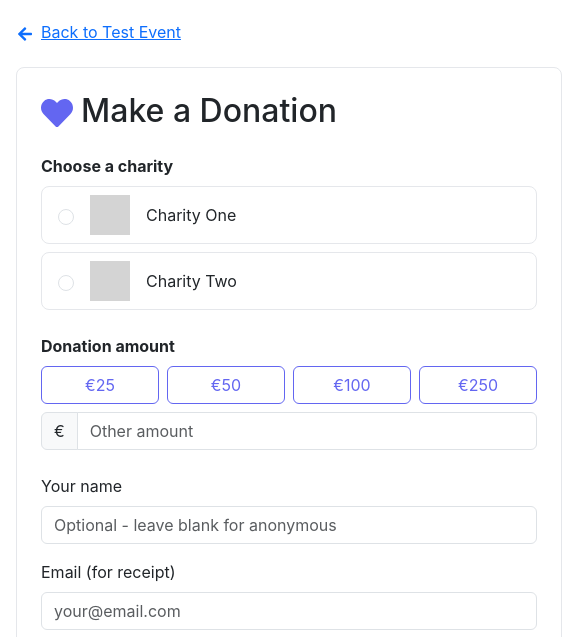
Test case: DonationForm › validates charity selection
// Select amount but not charity
What coordinates should you click on to do the following:
click the button "€50"
I would click on:
 (226, 385)
Its box is [167,366,285,404].
(page scrolled)
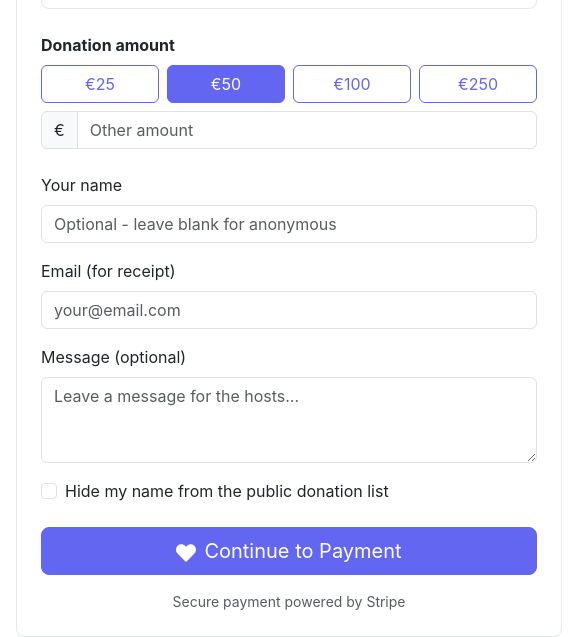
What coordinates should you click on to do the following:
click the button "Continue to Payment"
I would click on:
 (289, 551)
Its box is [41,527,537,575].
(page scrolled)
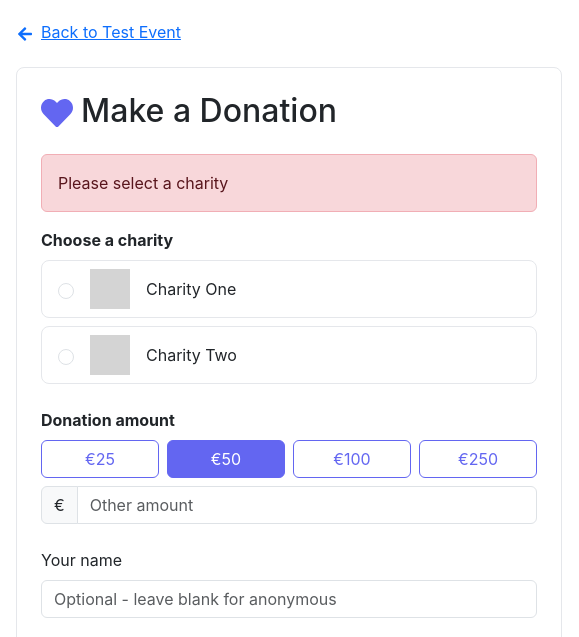
Check: the text "Please select a charity" is shown, box [41,154,537,212]
